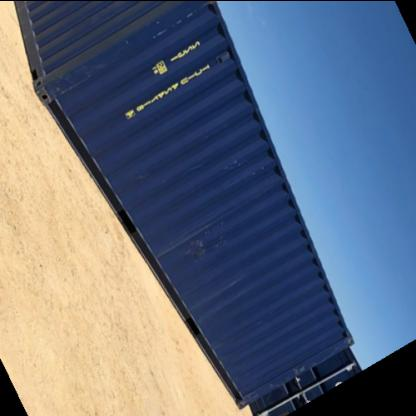Damage: (57, 1, 200, 85), (183, 213, 240, 278), (211, 141, 272, 195)
